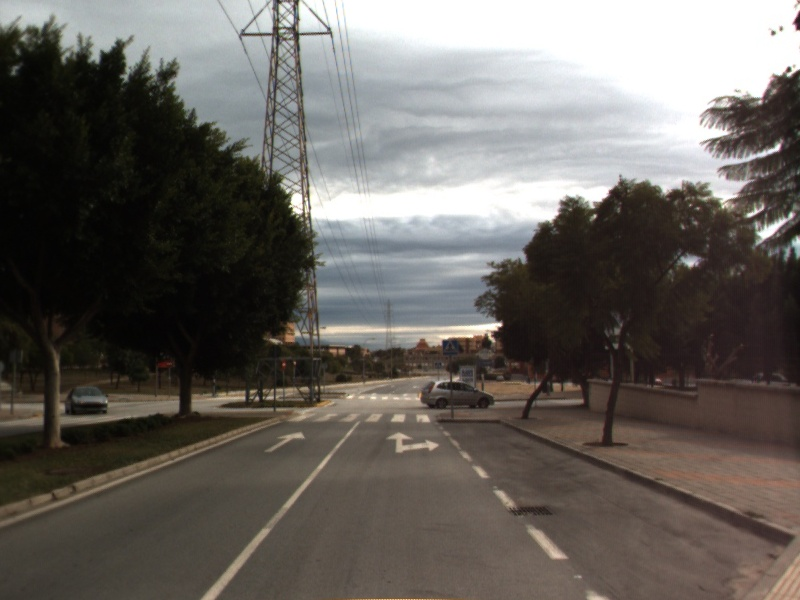STRAIGHT: (262, 429, 307, 454)
STRAIGHT_RIGHT: (384, 430, 442, 455)
